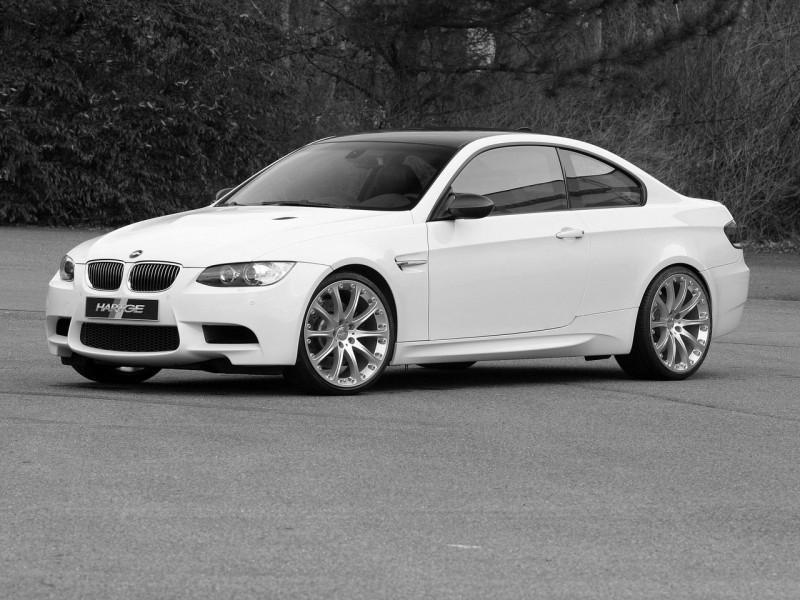car: (43, 133, 751, 400)
